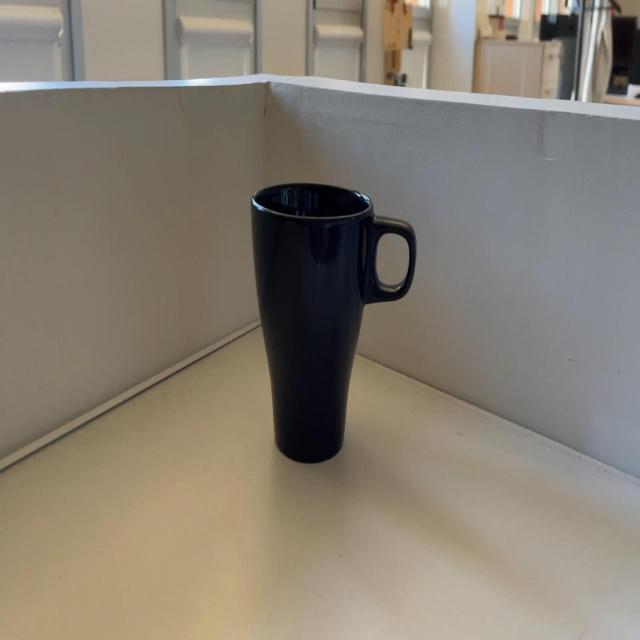cup: (247, 180, 421, 467)
